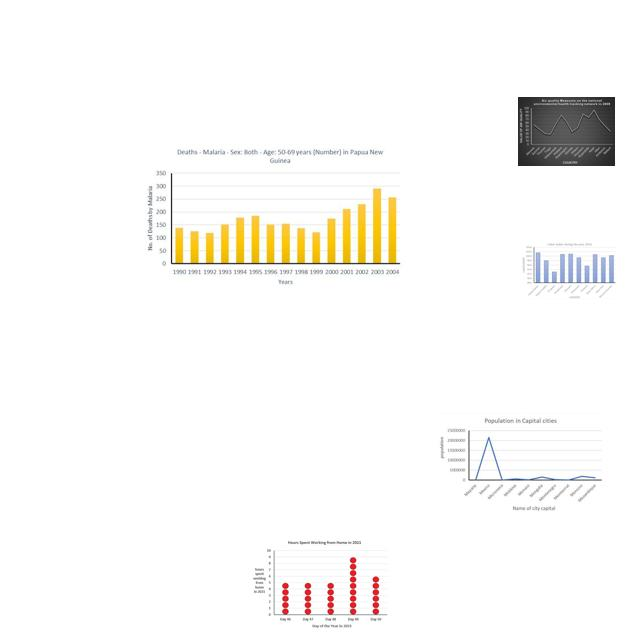Graph: (141, 144, 406, 289), (435, 413, 606, 515), (250, 539, 388, 631), (518, 97, 615, 166), (522, 242, 617, 299)
